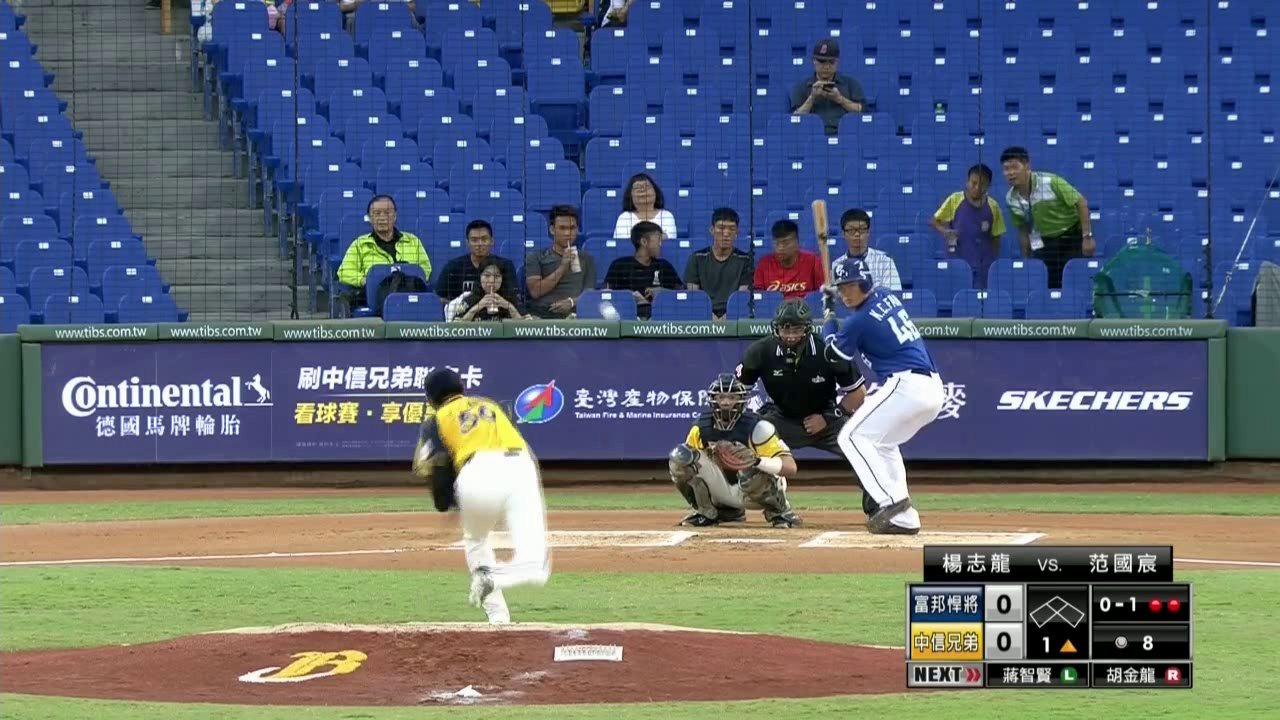ball: (596, 299, 622, 322)
base: (1029, 593, 1086, 629)
bat: (808, 196, 839, 291)
out: (1145, 594, 1181, 614)
score1: (985, 584, 1022, 620)
score2: (985, 623, 1022, 659)
session: (1037, 633, 1080, 654)
strikeball: (1096, 592, 1140, 615)
total: (1106, 630, 1157, 655)
